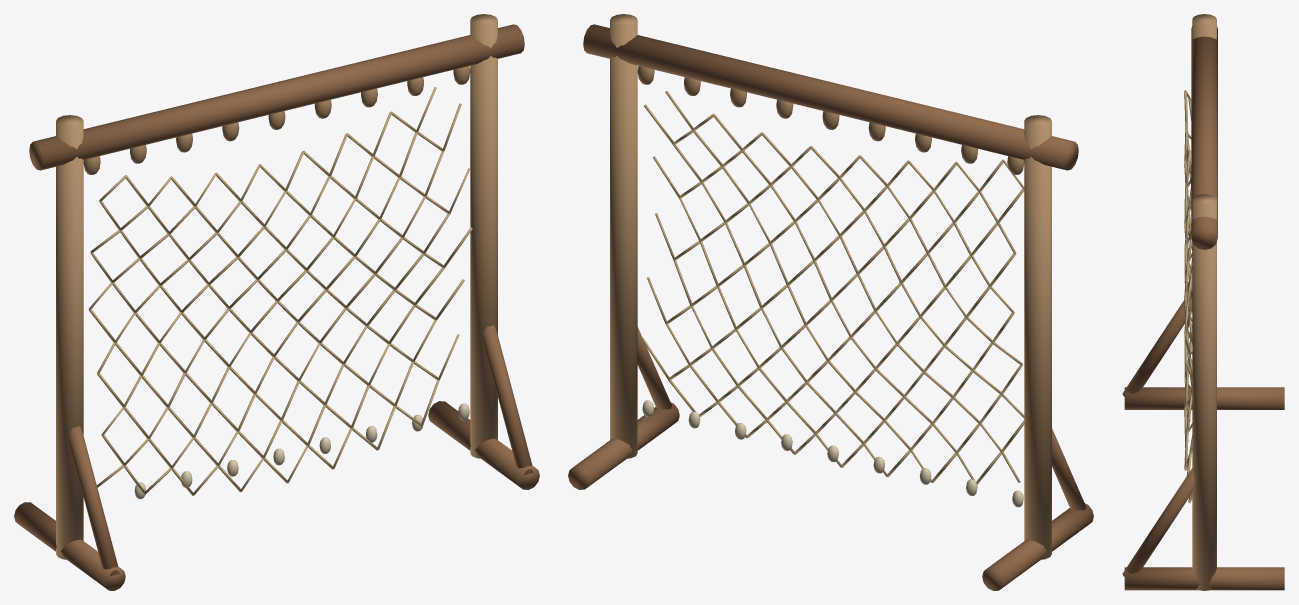
The model's file is fishing-net-rack.glb.
The picture shows the model from 3 angles, left to right: view 1: azimuth 30°, elevation 25°; view 2: azimuth 150°, elevation 25°; view 3: azimuth 270°, elevation 25°; orthographic projection. The views are drawn at different scales.
Parts seen in each view (by area): view 1: fishing-net-rack__wood, fishing-net-rack__woodlight, fishing-net-rack__rope, fishing-net-rack__limestone; view 2: fishing-net-rack__woodlight, fishing-net-rack__wood, fishing-net-rack__rope, fishing-net-rack__limestone; view 3: fishing-net-rack__wood, fishing-net-rack__woodlight, fishing-net-rack__rope.
Part boxes in pixels (bbox=[...]): fishing-net-rack__wood: bbox=[14, 24, 539, 590]; fishing-net-rack__woodlight: bbox=[56, 14, 497, 559]; fishing-net-rack__rope: bbox=[89, 87, 472, 495]; fishing-net-rack__limestone: bbox=[134, 403, 469, 499]; fishing-net-rack__woodlight: bbox=[610, 14, 1051, 559]; fishing-net-rack__wood: bbox=[568, 24, 1093, 590]; fishing-net-rack__rope: bbox=[642, 91, 1024, 484]; fishing-net-rack__limestone: bbox=[642, 400, 1023, 507]; fishing-net-rack__wood: bbox=[1122, 26, 1284, 590]; fishing-net-rack__woodlight: bbox=[1192, 14, 1216, 590]; fishing-net-rack__rope: bbox=[1184, 90, 1192, 502].
Size of the model in its own units: 2.6 by 2.26 by 0.8518.
